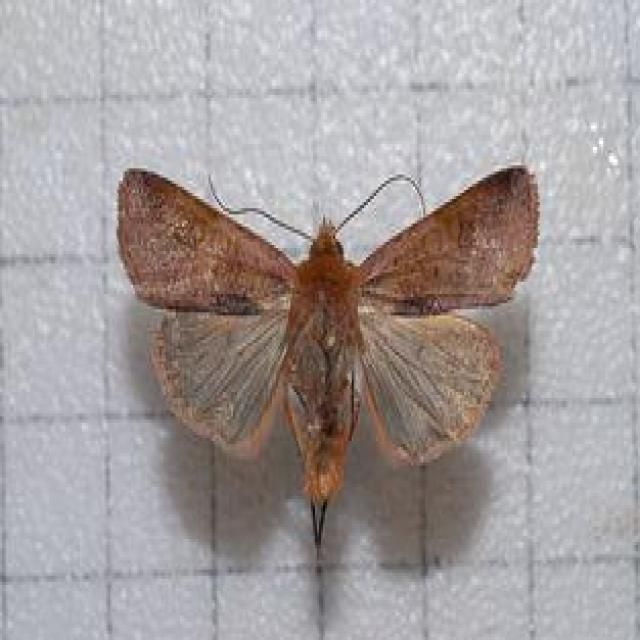BeetArmyWorm-Adult-: (98, 144, 552, 552)
